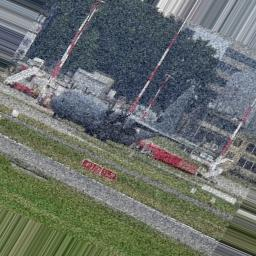Airplane: (52, 82, 200, 151)
